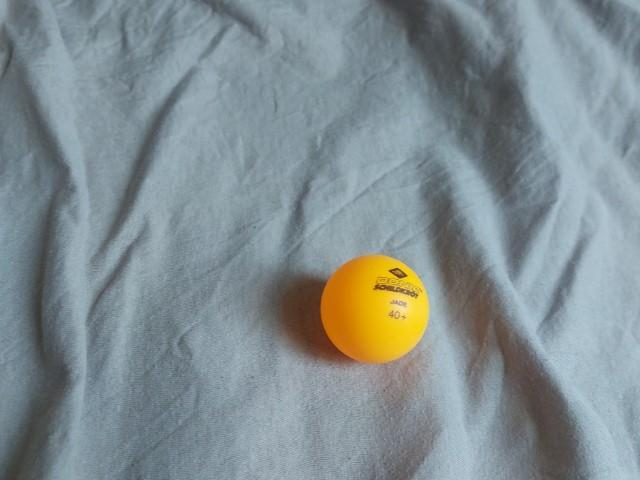oball: (312, 249, 437, 374)
